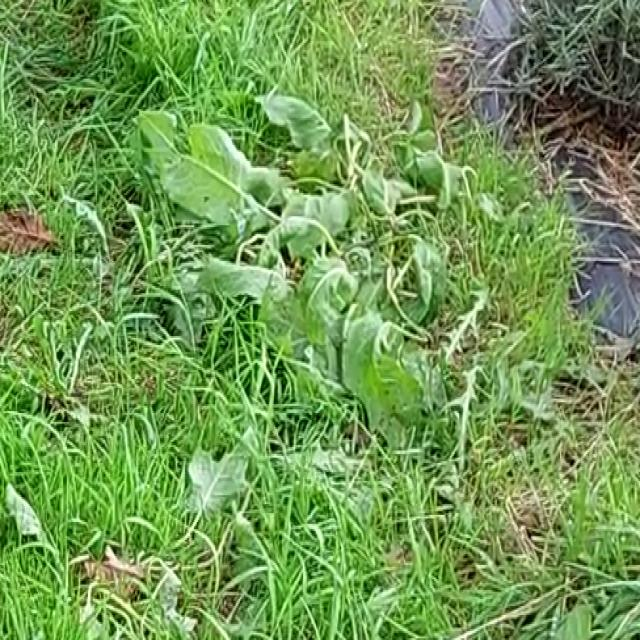organic waste: (150, 61, 448, 431), (273, 141, 450, 365)
